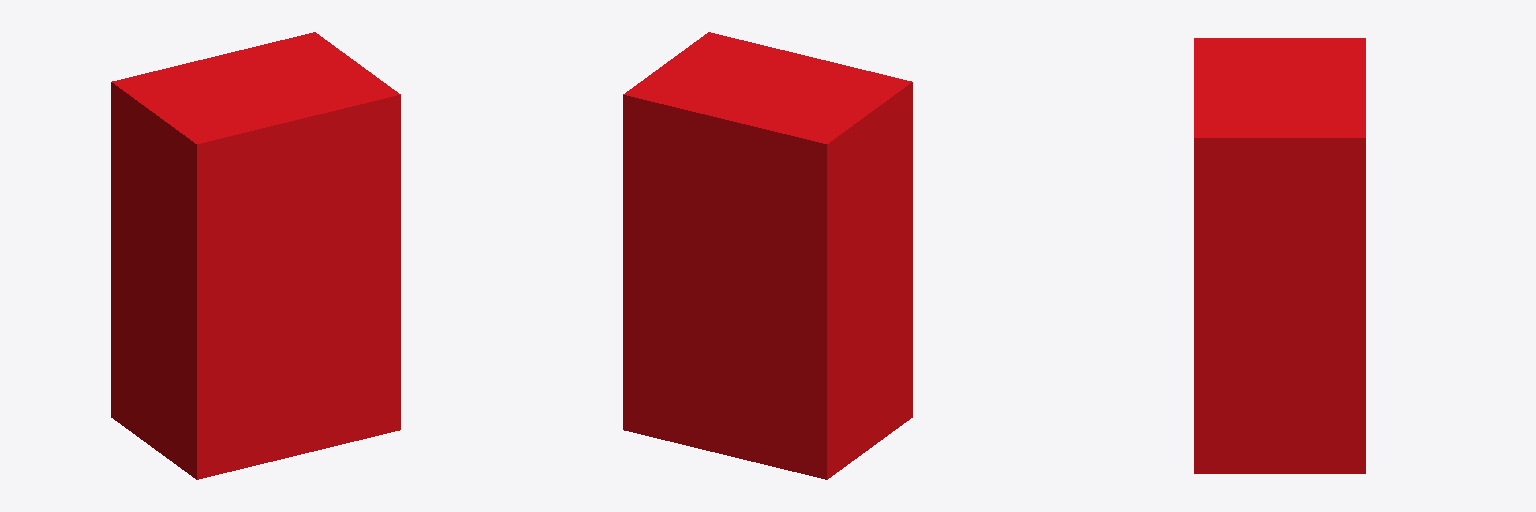
3 renders of one model, left to right at view 1: azimuth 30°, elevation 25°; view 2: azimuth 150°, elevation 25°; view 3: azimuth 270°, elevation 25°, orthographic.
Parts seen in each view (by area): view 1: cube15; view 2: cube15; view 3: cube15.
Part boxes in pixels (x1,y1,x2,y2): cube15: (111, 32, 400, 479); cube15: (623, 32, 912, 479); cube15: (1194, 38, 1365, 473).
Size of the model in its own units: 28 by 44 by 20.34.
1 materials, 1 textured.